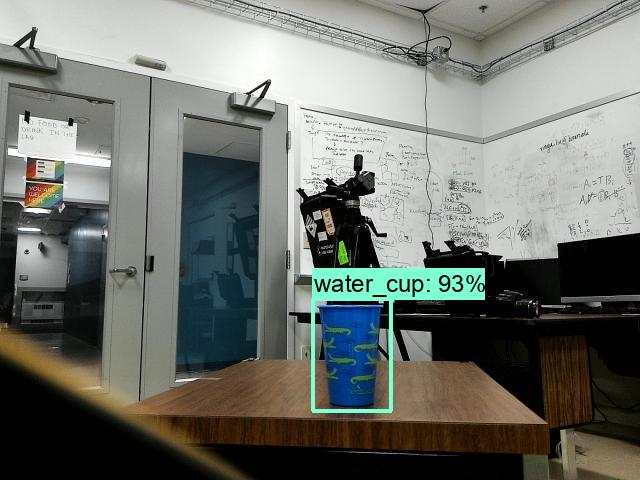water_cup: (311, 301, 388, 408)
